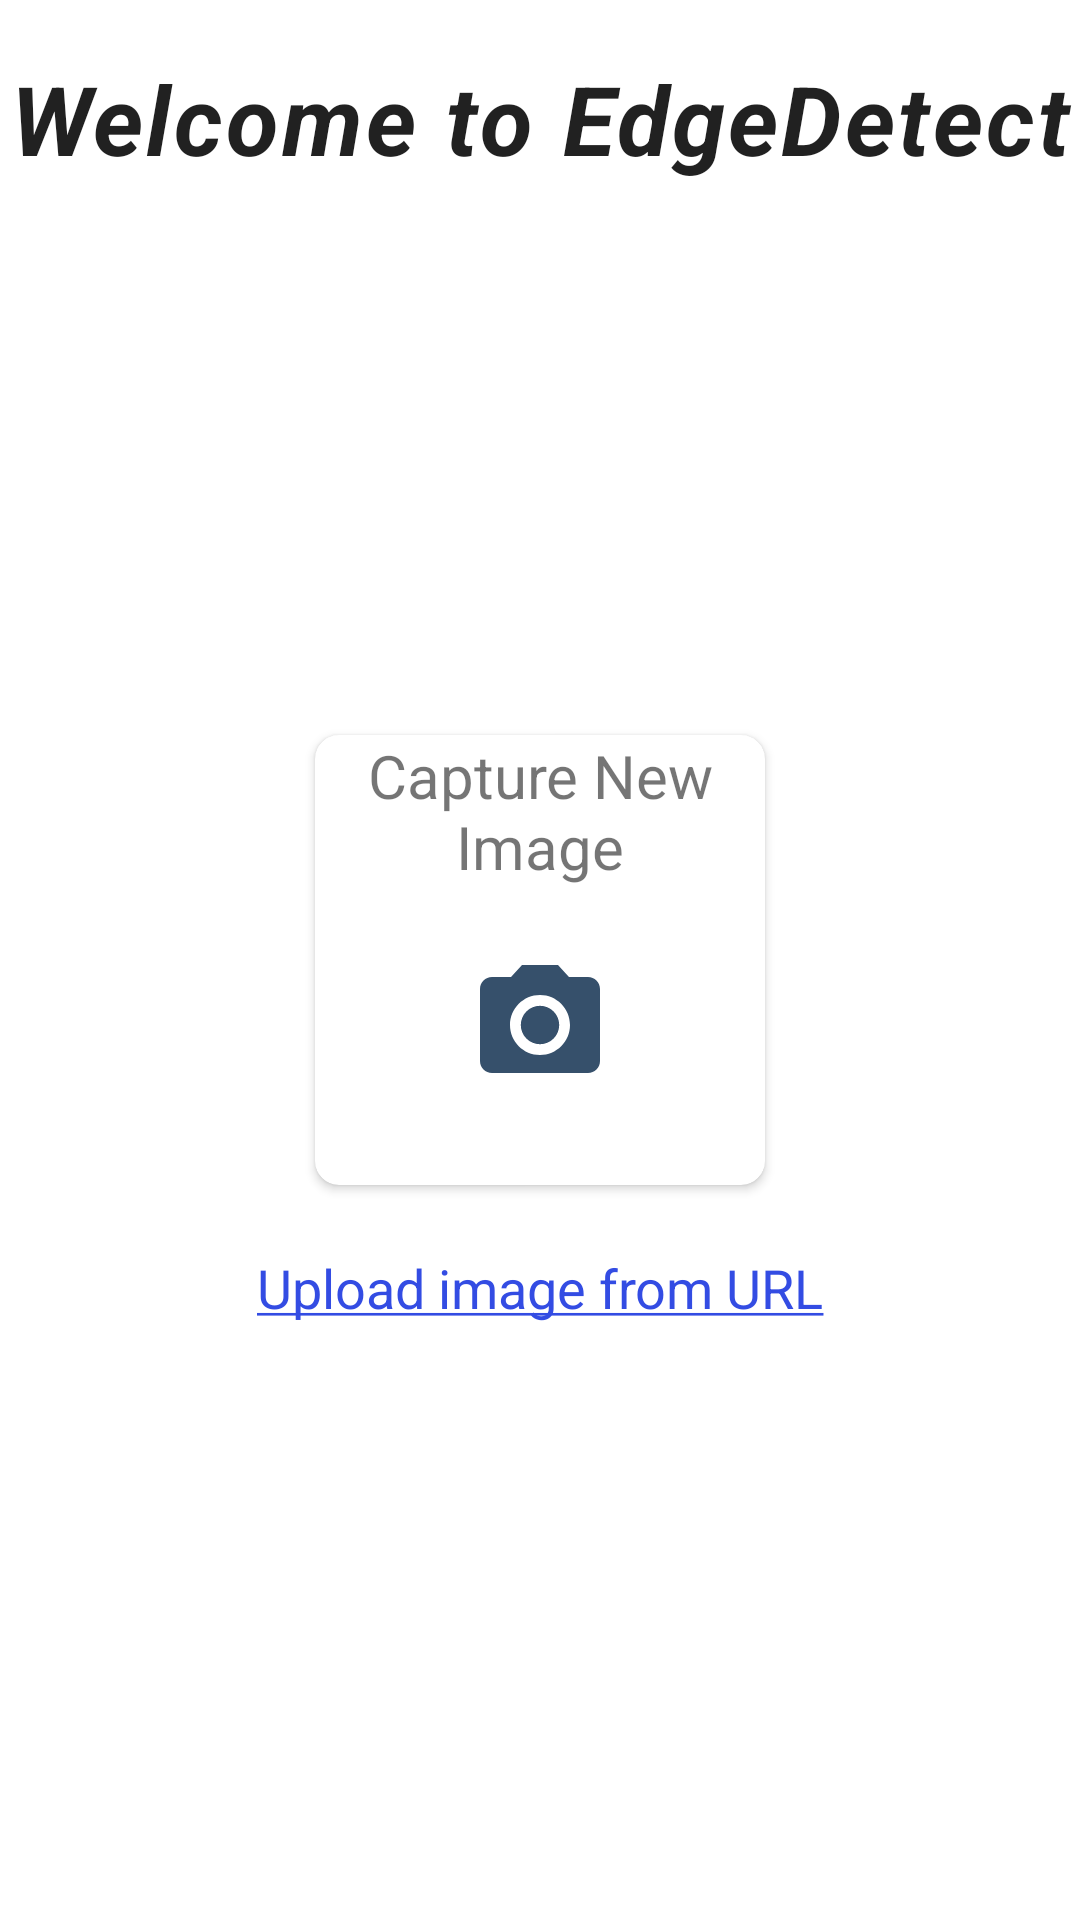

Where to tap for icons on this 1080w x 1920h app screen, as (x=x, y=y):
camera: (x=540, y=1019)
